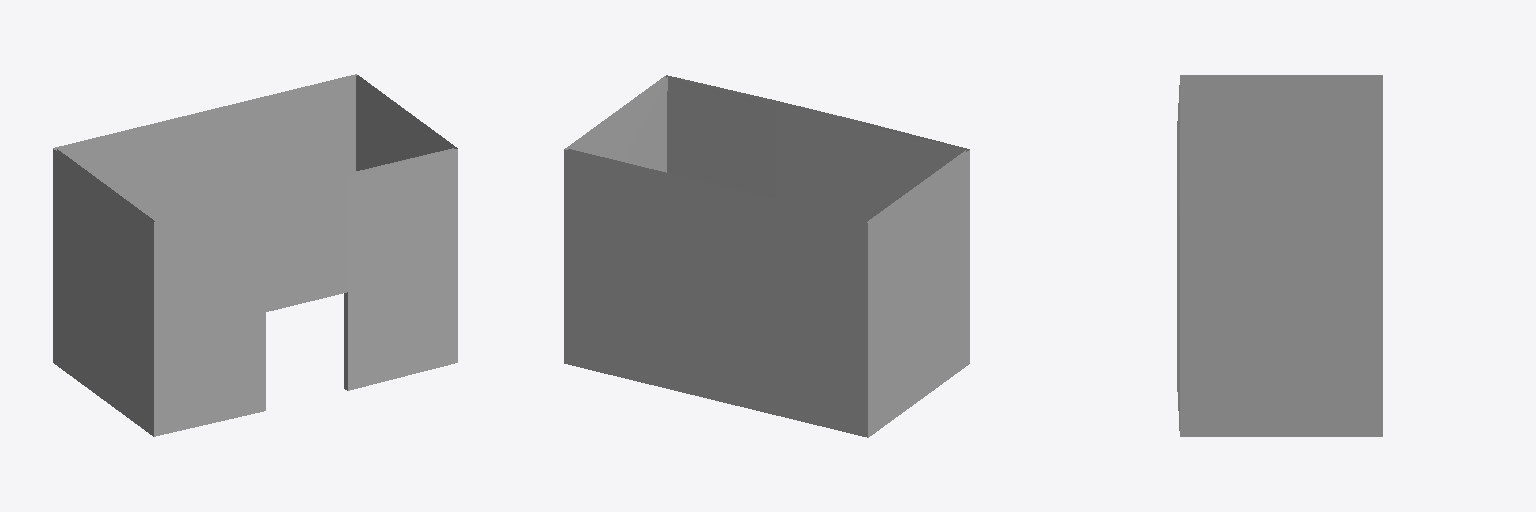
File: TempleRoom3.obj
3 renders of one model, left to right at view 1: azimuth 30°, elevation 25°; view 2: azimuth 150°, elevation 25°; view 3: azimuth 270°, elevation 25°, orthographic.
Visible parts, largest first — view 1: TempleRoom3; view 2: TempleRoom3; view 3: TempleRoom3.
Part boxes in pixels (left/top/right/bottom): TempleRoom3: left=53, top=74, right=457, bottom=436; TempleRoom3: left=564, top=75, right=969, bottom=437; TempleRoom3: left=1177, top=75, right=1382, bottom=436.
Bounding box in the file's own units: 1638 × 1102 × 959.